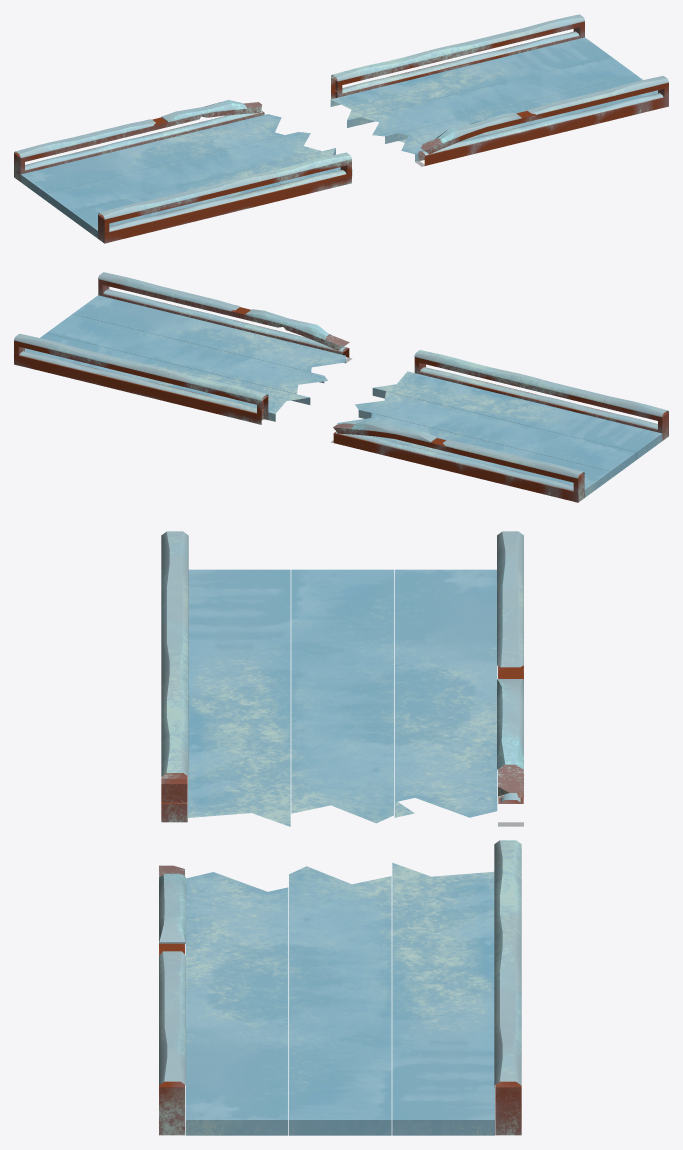
Rendered from Platform_3.fbx.
3 views of the same model, one above another, from view 1: azimuth 30°, elevation 25°; view 2: azimuth 150°, elevation 25°; view 3: azimuth 270°, elevation 25° (orthographic). The views are drawn at different scales.
Visible parts, largest first — view 1: Platform2_1; view 2: Platform2_1; view 3: Platform2_1.
Part boxes in pixels (<box>): Platform2_1: <box>14,14,668,243</box>; Platform2_1: <box>14,272,668,502</box>; Platform2_1: <box>159,531,523,1135</box>.
Bounding box in the file's own units: 2279 × 109 × 639.
